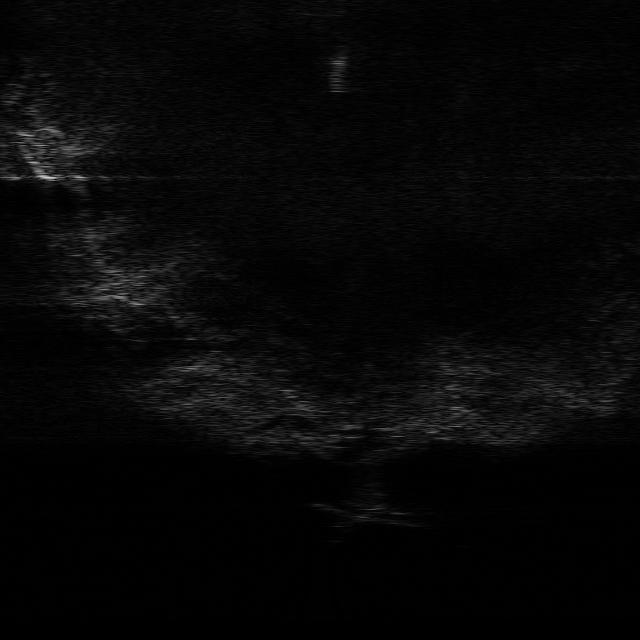plane: (312, 502, 420, 528)
